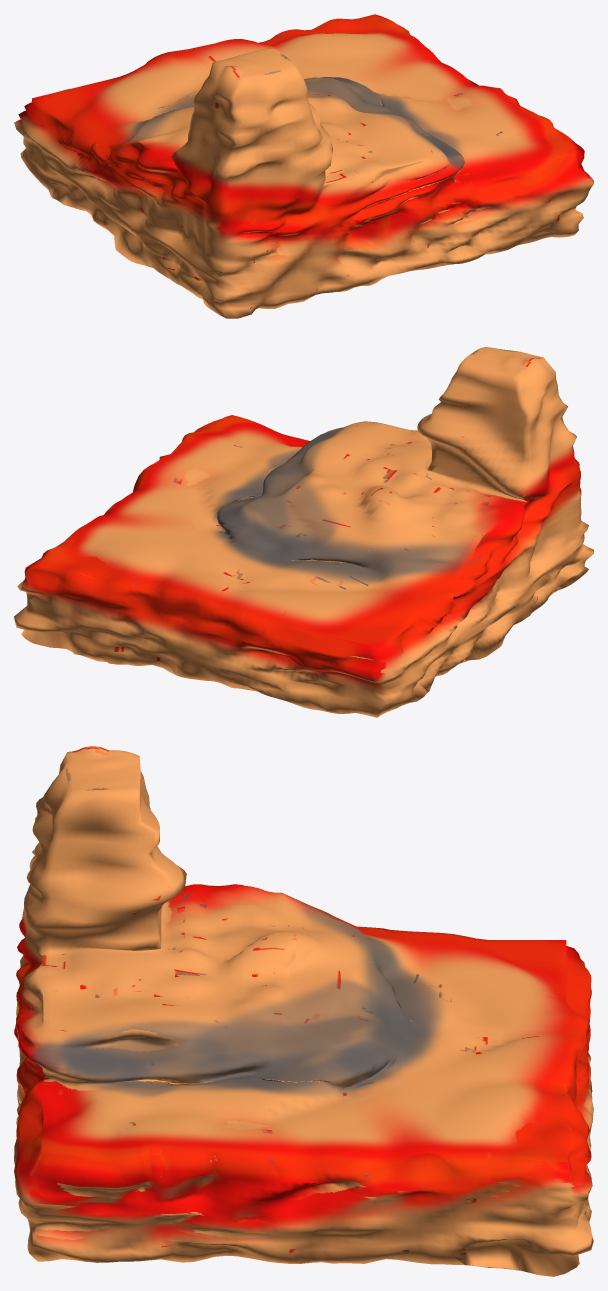
The model's file is Platform.fbx.
3 views of the same model, one above another, from view 1: azimuth 30°, elevation 25°; view 2: azimuth 150°, elevation 25°; view 3: azimuth 270°, elevation 25° (orthographic). The views are drawn at different scales.
Visible parts, largest first — view 1: Cube; view 2: Cube; view 3: Cube.
Boxes of the visible parts, x1,y1,x2,y2 form: Cube: [14, 14, 593, 318]; Cube: [14, 347, 593, 717]; Cube: [14, 746, 593, 1276].
Size of the model in its own units: 1136 by 664 by 1109.
Materials: 1 (1 with a texture image).
